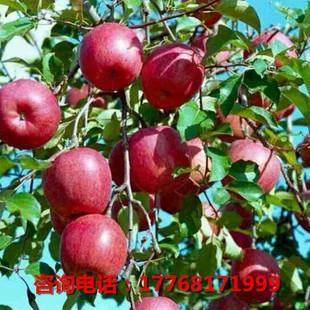apple: (41, 145, 112, 220), (76, 22, 144, 93), (57, 213, 129, 279), (1, 78, 60, 151), (141, 41, 204, 109), (126, 127, 190, 192), (222, 137, 285, 199)
